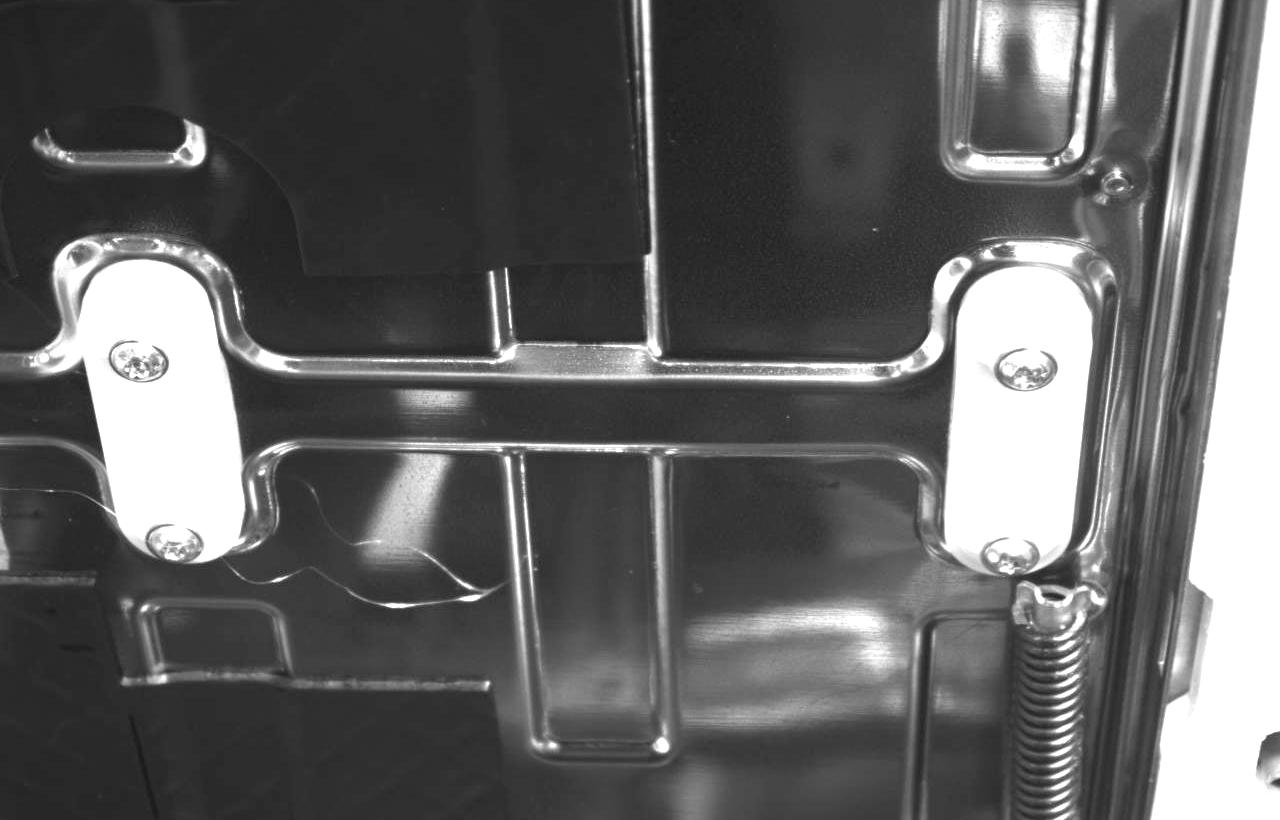vida-ok: (99, 327, 186, 405), (978, 336, 1065, 408), (132, 509, 212, 573), (975, 528, 1050, 587)
